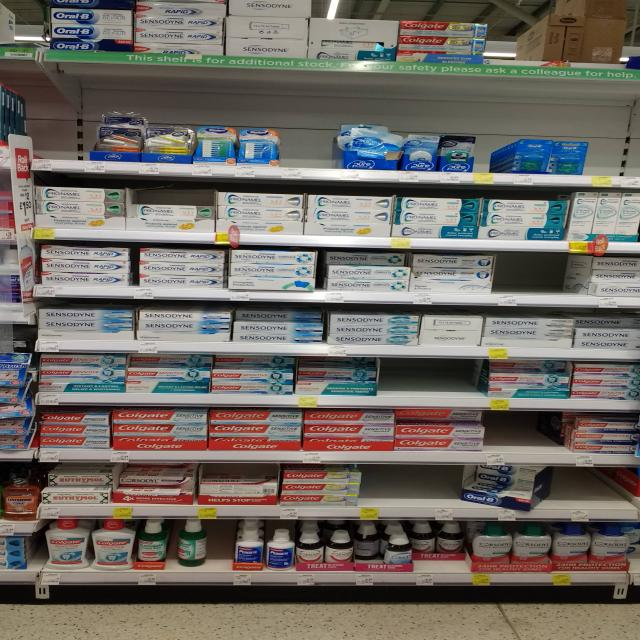void: (592, 115, 638, 190), (36, 99, 93, 159), (544, 249, 591, 309), (480, 113, 514, 183), (280, 112, 312, 182), (514, 398, 546, 468), (599, 464, 633, 528), (502, 253, 539, 310), (318, 110, 344, 180), (384, 356, 418, 408), (424, 458, 450, 526), (211, 519, 235, 592), (422, 352, 452, 409), (452, 353, 482, 405), (513, 1, 538, 58), (398, 465, 421, 523), (366, 464, 388, 522), (543, 469, 567, 522), (552, 404, 570, 464), (491, 0, 508, 60), (491, 405, 507, 464), (577, 466, 594, 516)
